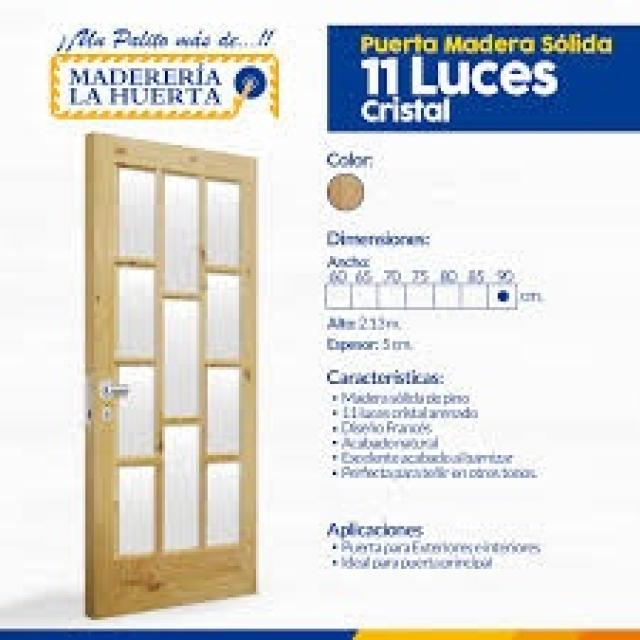door: (84, 130, 260, 618)
